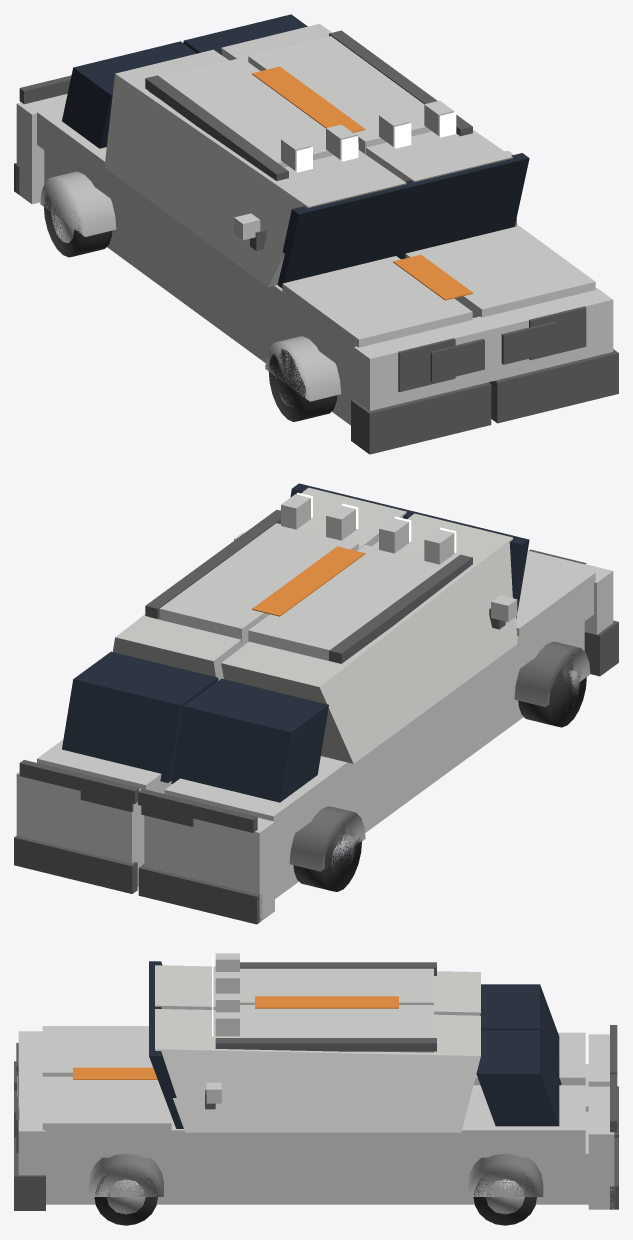
Rendered from rally_hatch.glb.
3 renders of one model, top to bottom at view 1: azimuth 30°, elevation 25°; view 2: azimuth 150°, elevation 25°; view 3: azimuth 270°, elevation 25°, orthographic. The views are drawn at different scales.
Parts seen in each view (by area): view 1: Cabin, Hood, Windshield, Roof, NoseBumper, NoseFascia, BodyBelt, BodyRocker, HatchGlass, RoofRail, HeadBezel, FlareRear (+13 smaller); view 2: Cabin, HatchGlass, Roof, RearDeck, BodyBelt, BodyRocker, RearBumper, RoofRail, Spoiler, Hood, FlareRear, FlareFront (+10 smaller); view 3: Cabin, BodyRocker, BodyBelt, Roof, Hood, HatchGlass, RoofRail, RearDeck, NoseFascia, FlareFront, FlareRear, RoofStripe (+11 smaller).
Part boxes in pixels (<box>): Cabin: <box>104,24,517,287</box>; Hood: <box>282,226,595,347</box>; Windshield: <box>277,153,529,288</box>; Roof: <box>148,36,431,167</box>; NoseBumper: <box>351,349,618,454</box>; NoseFascia: <box>354,288,613,410</box>; BodyBelt: <box>37,105,476,376</box>; BodyRocker: <box>44,150,353,425</box>; HatchGlass: <box>62,14,307,148</box>; RoofRail: <box>145,30,472,180</box>; HeadBezel: <box>430,321,556,382</box>; FlareRear: <box>40,171,116,236</box>; Cabin: <box>113,487,517,763</box>; HatchGlass: <box>62,651,328,802</box>; Roof: <box>149,523,445,663</box>; RearDeck: <box>16,772,274,922</box>; BodyBelt: <box>37,585,593,847</box>; BodyRocker: <box>142,621,584,898</box>; RearBumper: <box>14,835,262,924</box>; RoofRail: <box>145,509,472,663</box>; Spoiler: <box>19,760,257,832</box>; Hood: <box>516,556,595,636</box>; FlareRear: <box>289,806,365,871</box>; FlareFront: <box>514,641,590,706</box>; Cabin: <box>155,965,480,1132</box>; BodyRocker: <box>46,1064,588,1204</box>; BodyBelt: <box>46,1032,585,1157</box>; Roof: <box>237,968,433,1052</box>; Hood: <box>42,1026,171,1132</box>; HatchGlass: <box>476,984,561,1126</box>; RoofRail: <box>215,962,436,1051</box>; RearDeck: <box>588,1034,614,1209</box>; NoseFascia: <box>18,1031,45,1175</box>; FlareFront: <box>88,1153,163,1196</box>; FlareRear: <box>467,1153,543,1196</box>; RoofStripe: <box>255,996,398,1008</box>.
Bounding box in the file's own units: 1.8 × 1.33 × 3.99.
